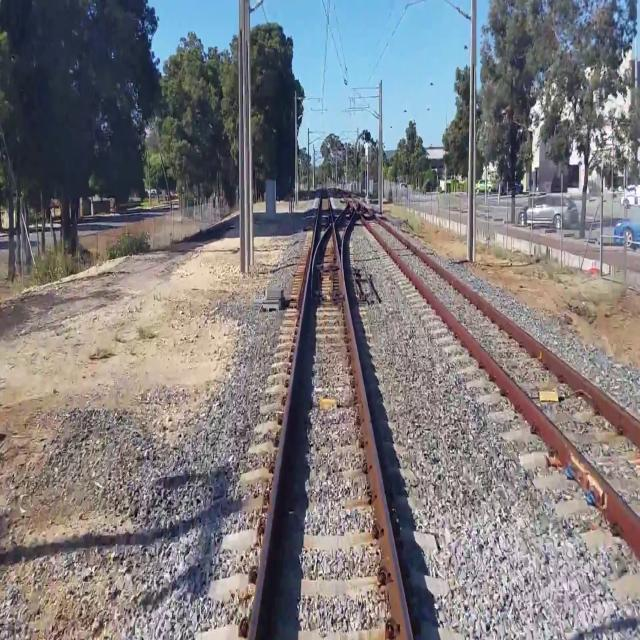rail-track: (356, 202, 640, 516), (255, 188, 408, 639)
